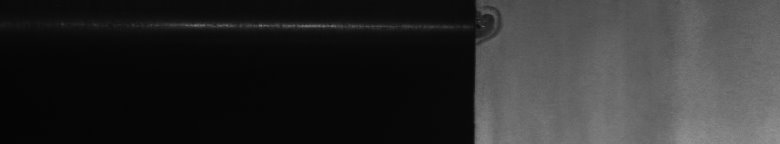hb: (484, 4, 507, 46)
